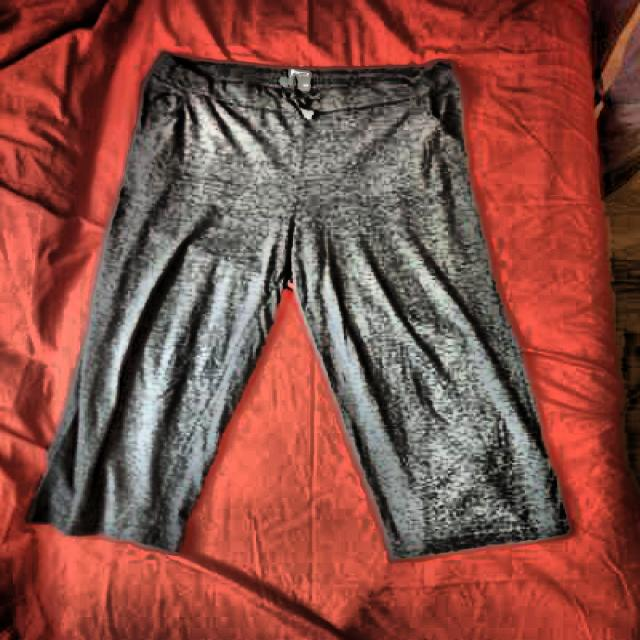clothes: (33, 51, 575, 562)
